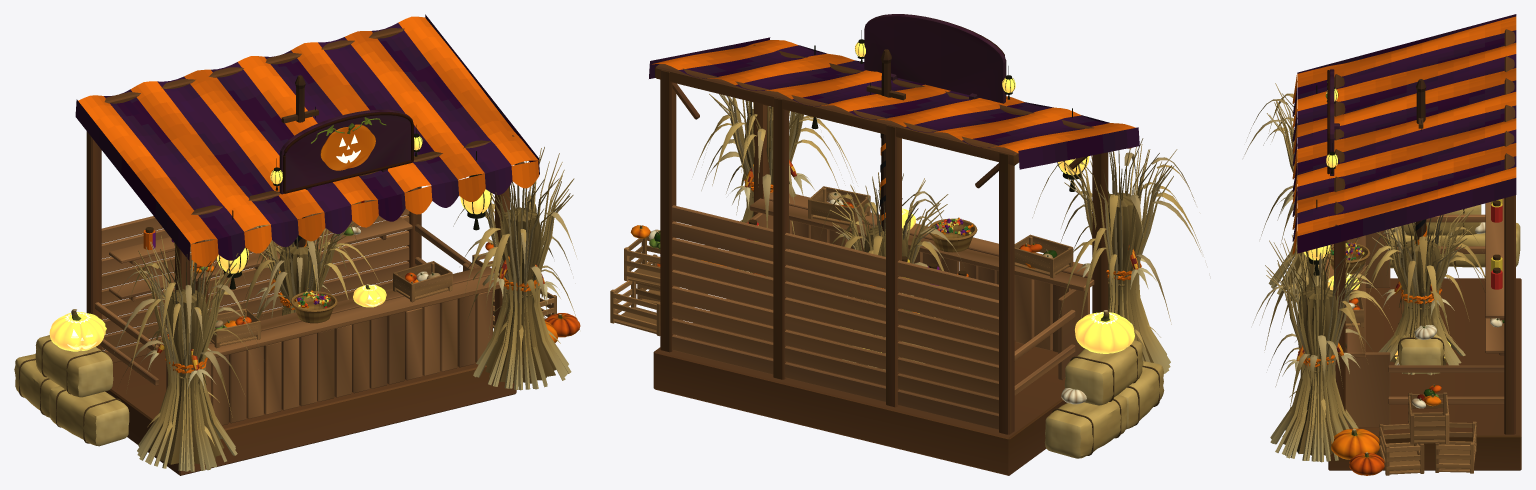
Rendered from gourdlight_decor.glb.
3 renders of one model, left to right at view 1: azimuth 30°, elevation 25°; view 2: azimuth 150°, elevation 25°; view 3: azimuth 270°, elevation 25°, orthographic. The views are drawn at different scales.
Visible parts, largest first — view 1: keeper_stall, corn_shock, garland_pole; view 2: keeper_stall, corn_shock, garland_pole; view 3: keeper_stall, corn_shock, hay_bale, garland_pole.
Part boxes in pixels (x1,y1,x2,y2): keeper_stall: (14,14,580,475); corn_shock: (242,213,378,318); garland_pole: (281,75,318,247); keeper_stall: (610,14,1201,475); corn_shock: (821,172,967,369); garland_pole: (866,49,905,231); keeper_stall: (1244,14,1521,475); corn_shock: (1350,208,1485,375); hay_bale: (1398,319,1444,373); garland_pole: (1415,79,1426,244).
Bounding box in the file's own units: 7.07 × 4.83 × 3.62.
